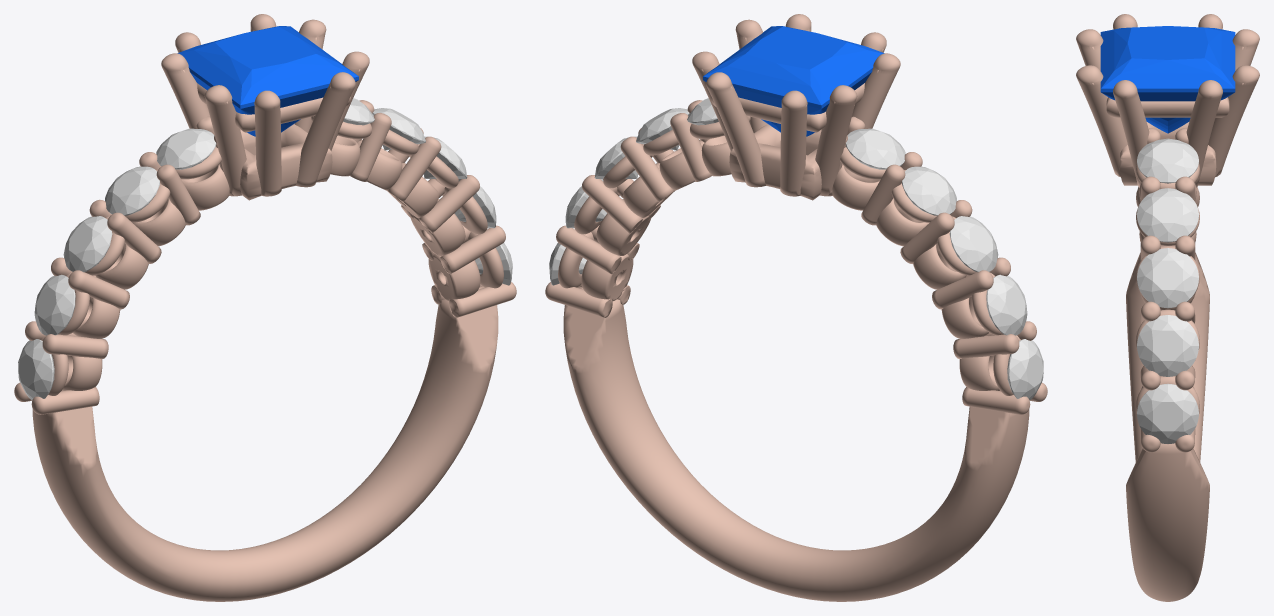
The model's file is bluesapphire-princess-rosegold-8prong-taperedband-11stone.glb.
The picture shows the model from 3 angles, left to right: view 1: azimuth 30°, elevation 25°; view 2: azimuth 150°, elevation 25°; view 3: azimuth 270°, elevation 25°; orthographic projection.
Visible parts, largest first — view 1: metal, stone, side.002, side.003, side.001, side.004, side, side.006; view 2: metal, stone, side.002, side.003, side.001, side.004, side, side.006; view 3: metal, stone, side.008, side.007, side.009, side.006, side.005.
Part boxes in pixels (x1,y1,x2,y2): metal: (14, 14, 516, 601); stone: (177, 26, 358, 136); side.002: (63, 216, 112, 272); side.003: (105, 166, 159, 215); side.001: (34, 274, 75, 335); side.004: (156, 128, 216, 169); side: (18, 339, 54, 399); side.006: (372, 108, 425, 150); metal: (545, 14, 1047, 601); stone: (703, 26, 884, 136); side.002: (949, 216, 998, 272); side.003: (902, 166, 956, 215); side.001: (986, 274, 1027, 335); side.004: (845, 128, 905, 169); side: (1007, 339, 1043, 400); side.006: (636, 108, 689, 150); metal: (1076, 14, 1259, 601); stone: (1100, 26, 1235, 133); side.008: (1137, 315, 1198, 376); side.007: (1137, 248, 1198, 308); side.009: (1137, 383, 1198, 443); side.006: (1137, 188, 1198, 242); side.005: (1137, 138, 1198, 183).
Bounding box in the file's own units: 22.05 × 23.85 × 7.42.
